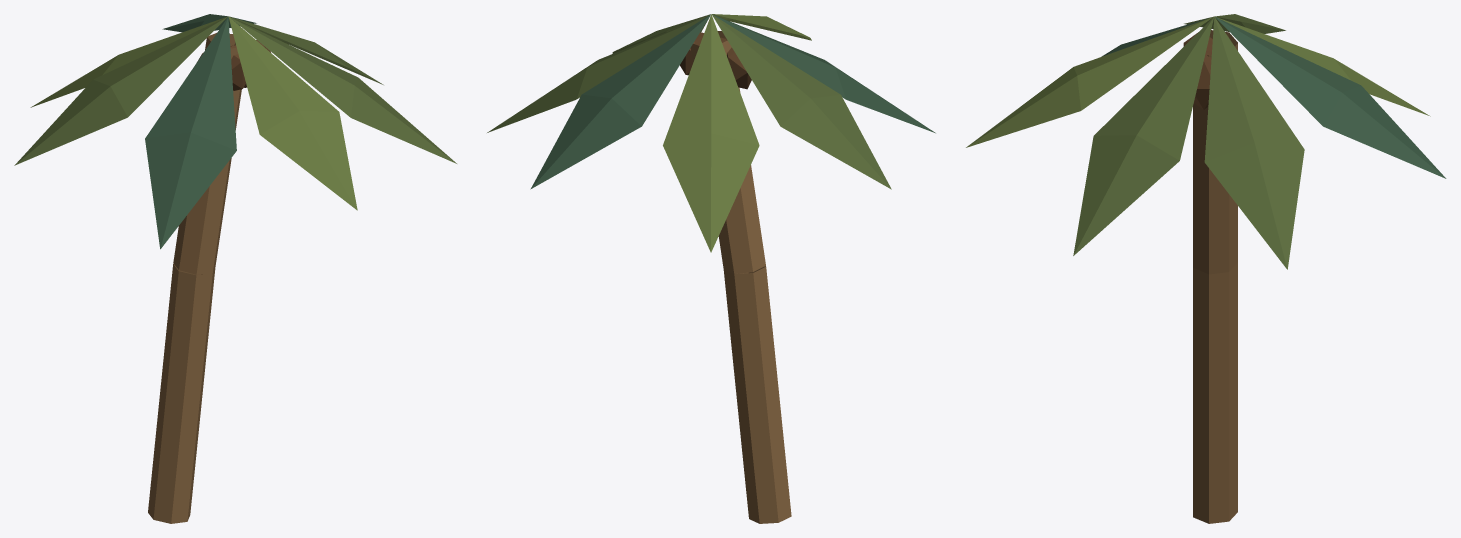
3 views of the same model, side by side, from view 1: azimuth 30°, elevation 25°; view 2: azimuth 150°, elevation 25°; view 3: azimuth 270°, elevation 25° (orthographic). The views are drawn at different scales.
Visible parts, largest first — view 1: T22_宽叶棕榈; view 2: T22_宽叶棕榈; view 3: T22_宽叶棕榈.
Boxes of the visible parts, x1,y1,x2,y2 form: T22_宽叶棕榈: (14,14,456,523); T22_宽叶棕榈: (487,14,935,523); T22_宽叶棕榈: (966,14,1446,523).
Size of the model in its own units: 1.84 by 2.21 by 1.82.
